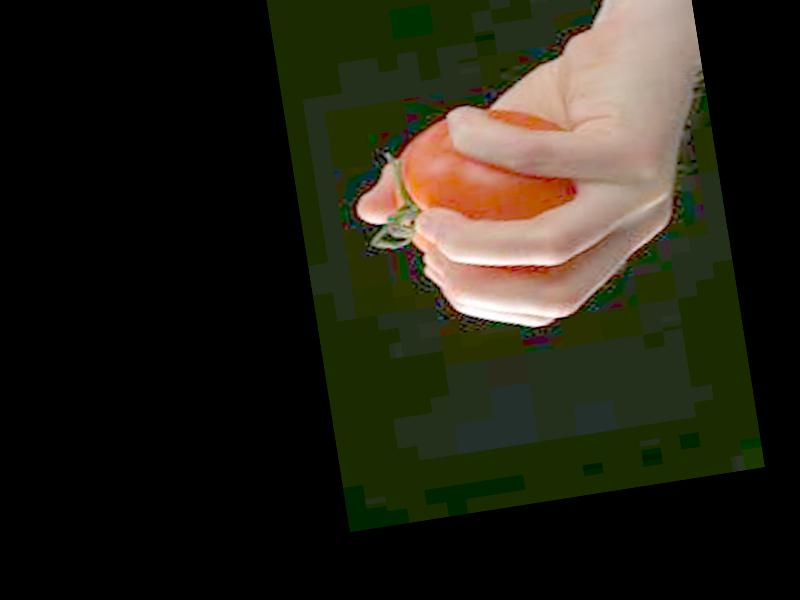Tomato: (392, 97, 588, 256)
